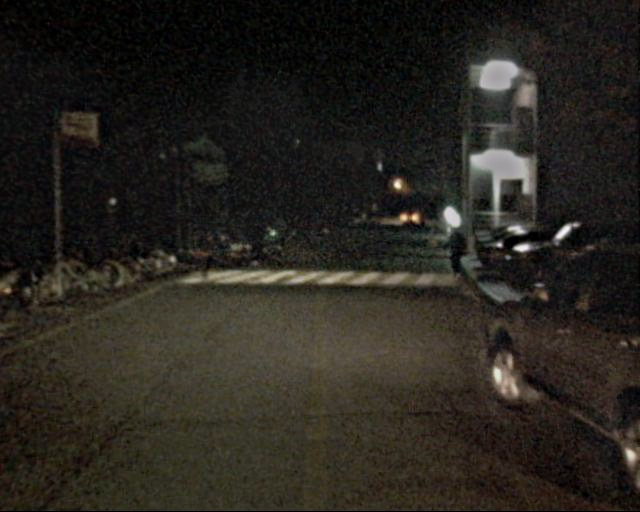person: (183, 220, 210, 285), (441, 226, 465, 284), (239, 220, 256, 262)
